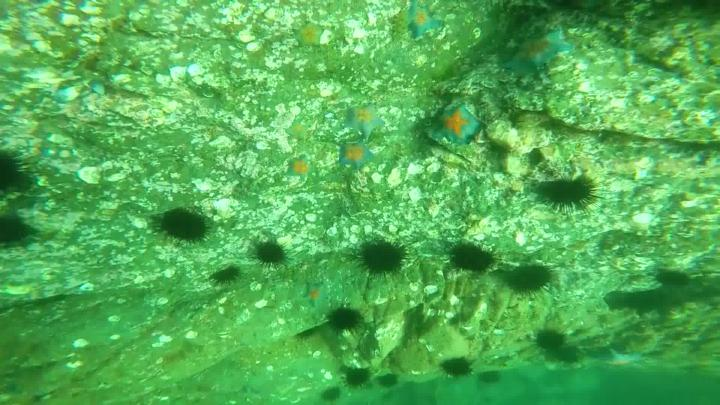echinus: (538, 173, 602, 216), (151, 210, 212, 248), (2, 149, 39, 195), (359, 245, 407, 279), (451, 243, 499, 275), (511, 267, 555, 293), (1, 217, 38, 245), (254, 242, 290, 269), (326, 309, 364, 331), (212, 267, 245, 287), (442, 358, 472, 379), (537, 331, 565, 353), (656, 271, 687, 289), (346, 370, 371, 387), (482, 371, 503, 385), (380, 376, 399, 390), (325, 388, 341, 401)
scallop: (633, 216, 655, 228), (424, 286, 443, 296)
starfish: (515, 30, 572, 80), (402, 1, 445, 41), (439, 105, 480, 146), (348, 105, 385, 138), (342, 143, 372, 171), (291, 157, 314, 180)
